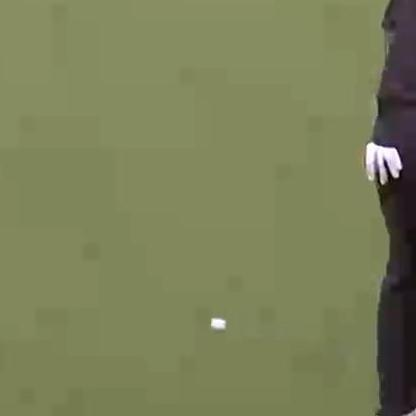golfball: (207, 315, 225, 332)
